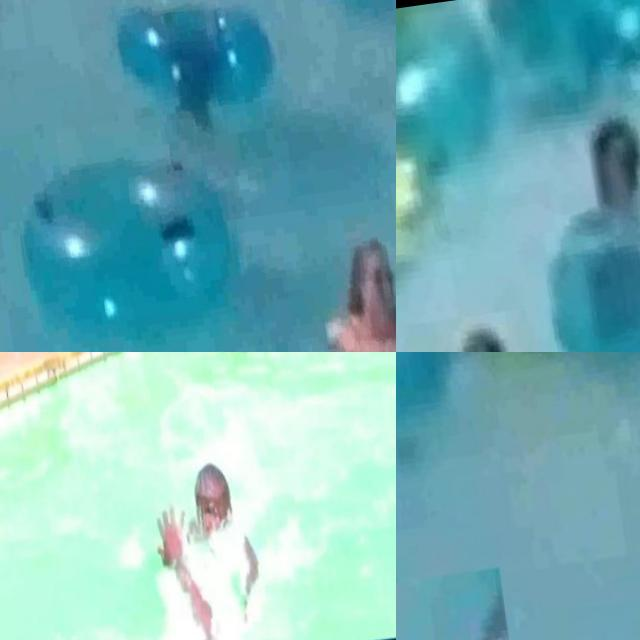drowning: (128, 120, 232, 210), (396, 567, 522, 640), (406, 309, 545, 352)
swimming: (534, 87, 640, 352), (158, 456, 264, 592), (396, 7, 442, 304), (291, 232, 396, 352)
